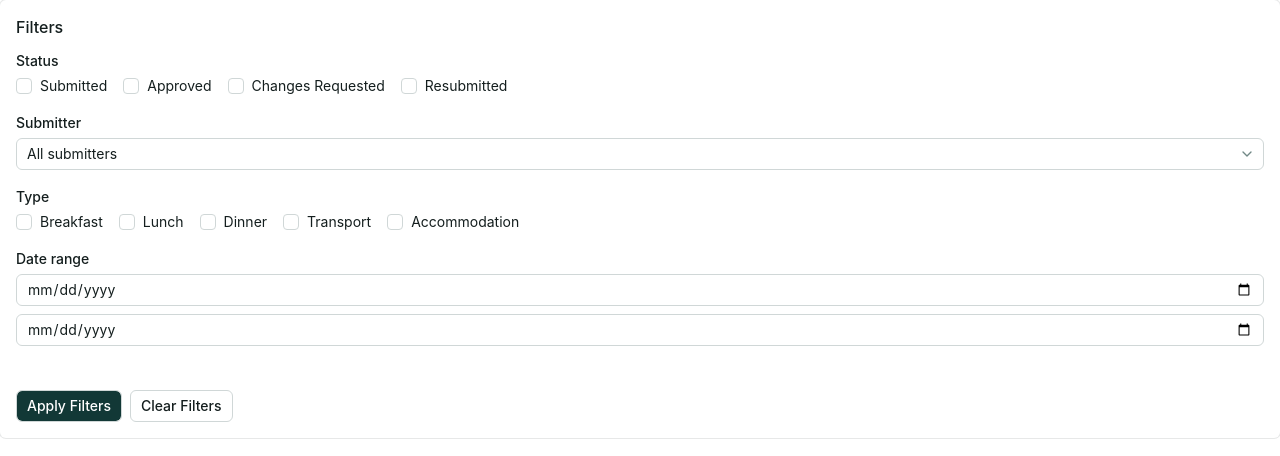
Test: FilterPanel › does not apply when the from date is after the to date
The width and height of the screenshot is (1280, 456).
In the date field named "From date": point(640, 290) left=16, top=274, right=1264, bottom=306, type "2025-07-31"
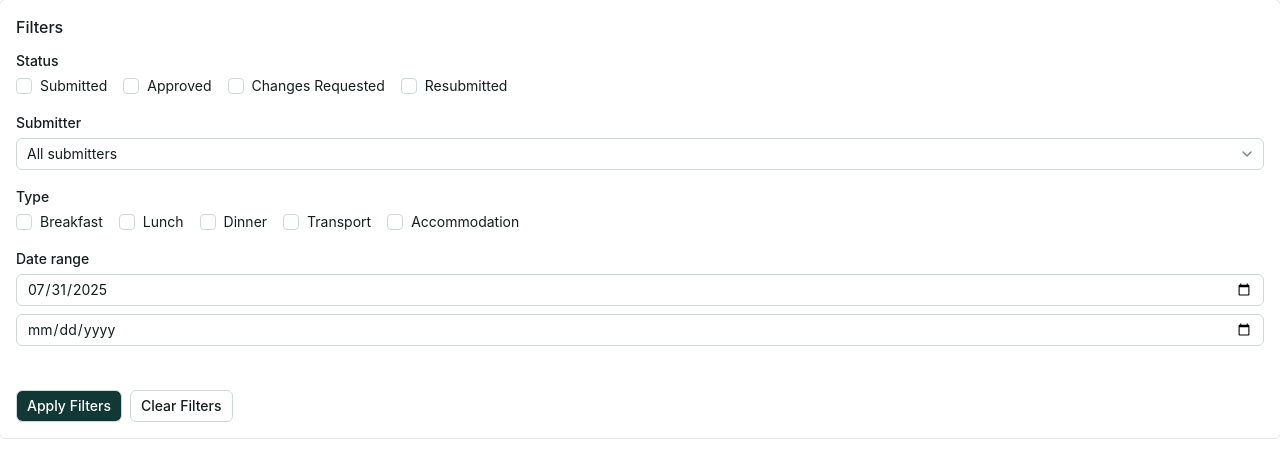
In the date field named "To date": point(640, 330) left=16, top=314, right=1264, bottom=346, type "2025-07-01"
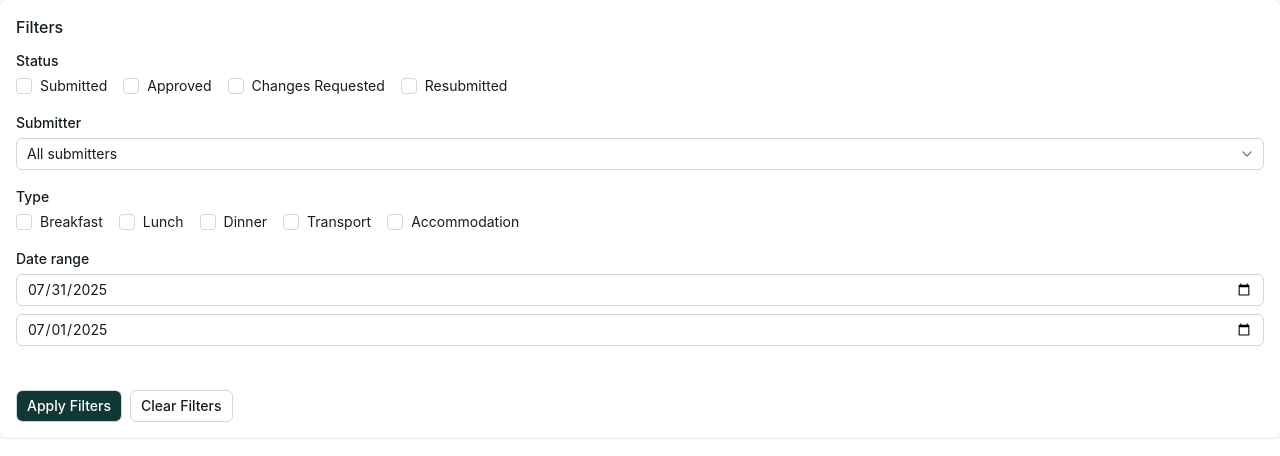
Click the button "Apply Filters": point(69, 406) left=16, top=390, right=122, bottom=422
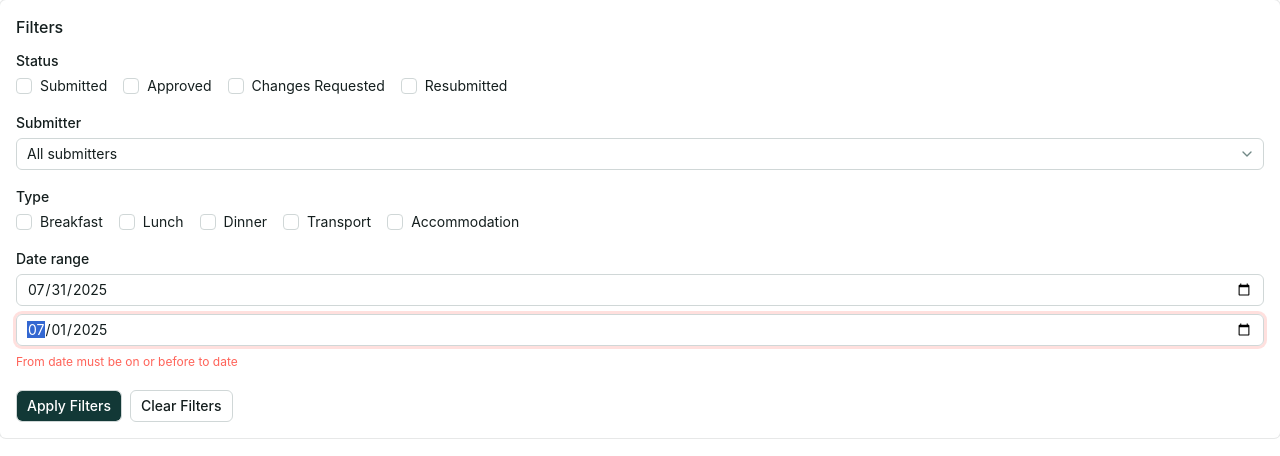
expect the text "From date must be on or before to date" is shown: met, box left=16, top=354, right=238, bottom=369
